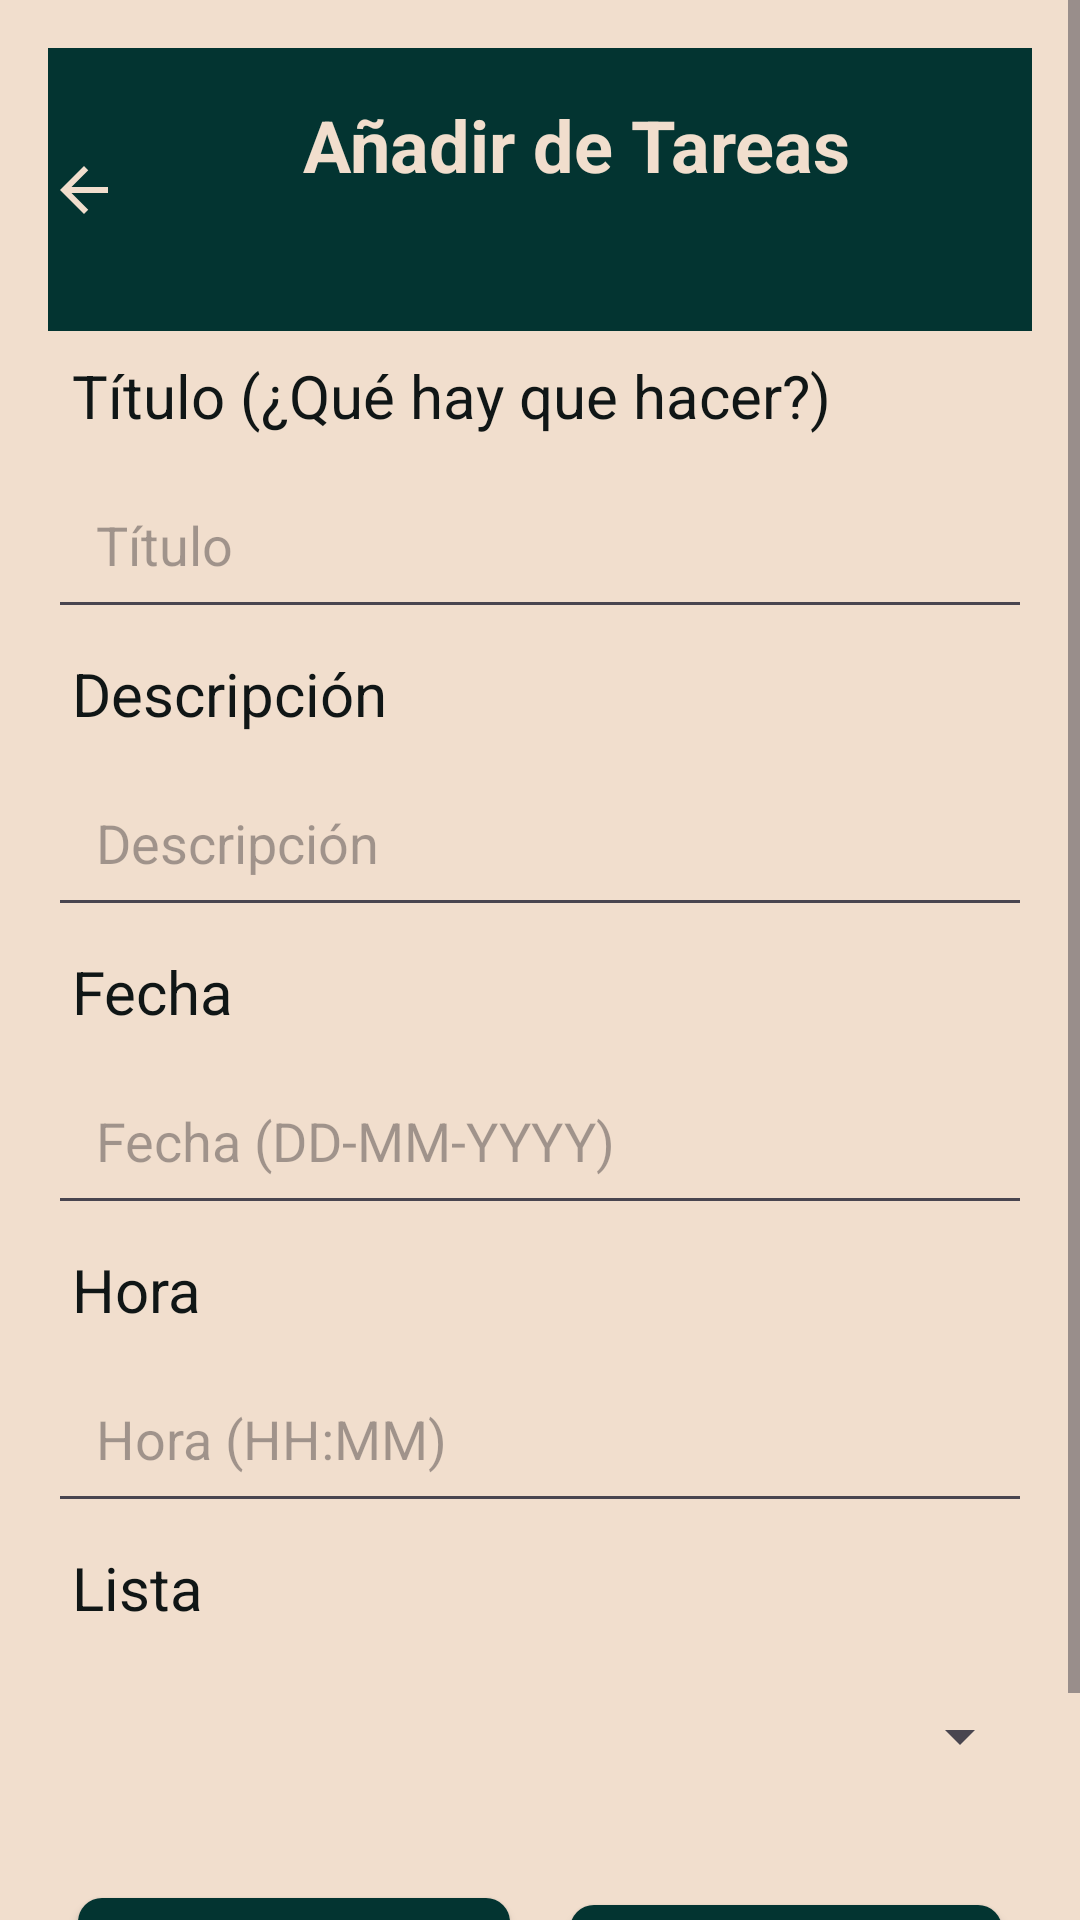

Point at icon controls on the screen. Image size 1080px×1920px, points as (x,y).
Regresar: (84,190)
